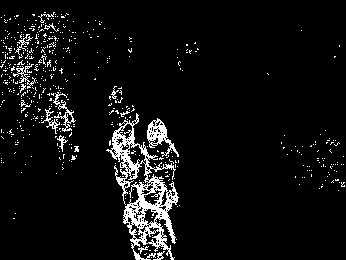person: (124, 180, 176, 260), (140, 118, 184, 205), (110, 123, 143, 205), (45, 94, 79, 165)
